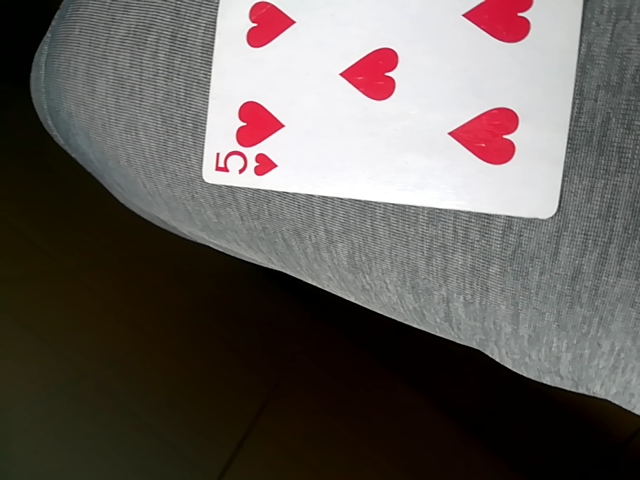hx 5: (200, 0, 591, 217)
